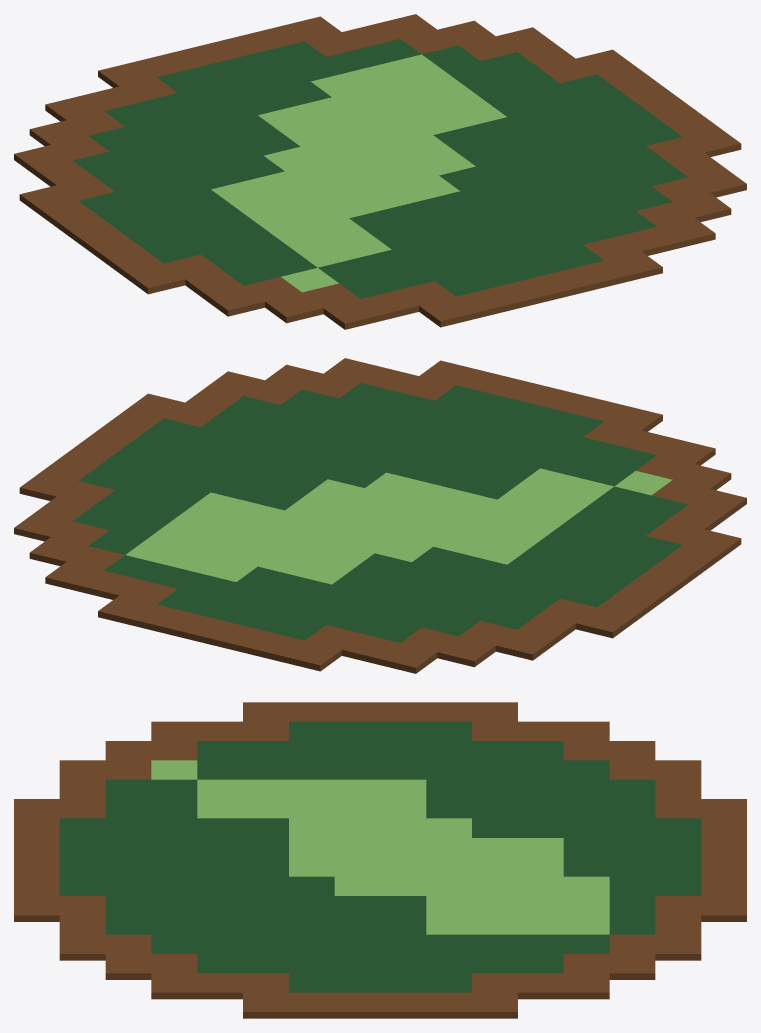
File: ncb-rug-forest.glb
The picture shows the model from 3 angles, top to bottom: view 1: azimuth 30°, elevation 25°; view 2: azimuth 150°, elevation 25°; view 3: azimuth 270°, elevation 25°; orthographic projection. The views are drawn at different scales.
Visible parts, largest first — view 1: box-prop; view 2: box-prop; view 3: box-prop.
Part boxes in pixels (x1=…): box-prop: x1=14, y1=14, x2=746, y2=329; box-prop: x1=14, y1=358, x2=746, y2=673; box-prop: x1=14, y1=702, x2=746, y2=1018.
Size of the model in its own units: 3.04 by 0.03 by 3.04.
